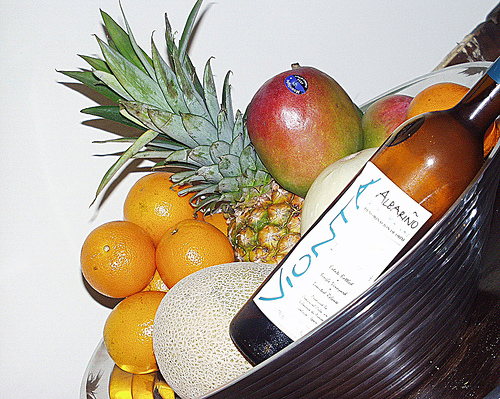pineapple: (59, 2, 302, 264)
